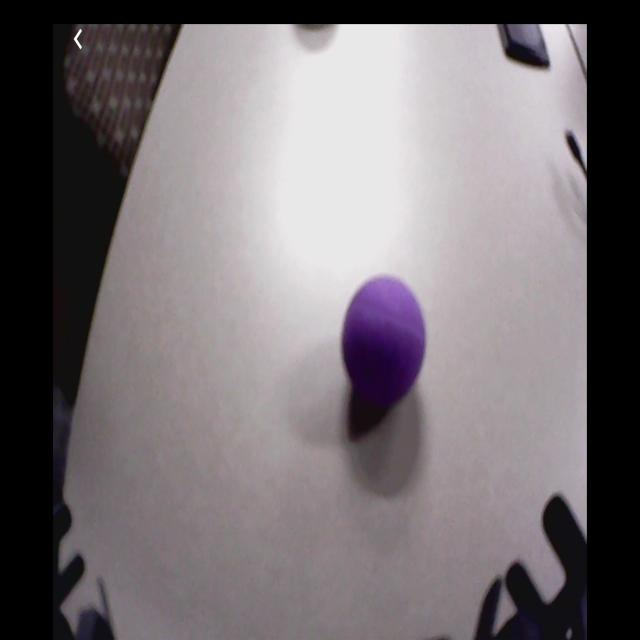ball: (341, 277, 428, 396)
